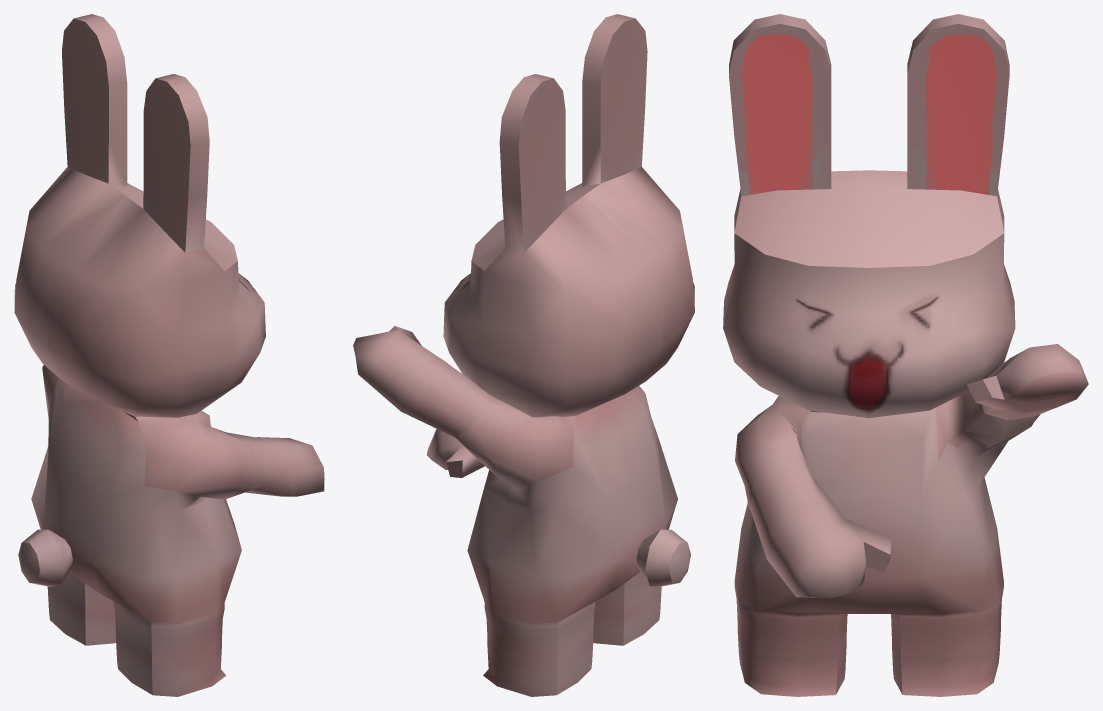
3 views of the same model, side by side, from view 1: azimuth 30°, elevation 25°; view 2: azimuth 150°, elevation 25°; view 3: azimuth 270°, elevation 25° (orthographic). The views are drawn at different scales.
Parts seen in each view (by area): view 1: Rb_S2; view 2: Rb_S2; view 3: Rb_S2.
Boxes of the visible parts, box(x1,y1,x2,y2) form: Rb_S2: box(14, 14, 324, 696); Rb_S2: box(353, 14, 694, 696); Rb_S2: box(723, 14, 1088, 696).
Size of the model in its own units: 3.8 by 7.84 by 3.98.
